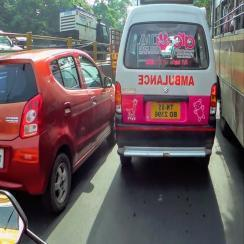Ambulance: (136, 72, 197, 88)
